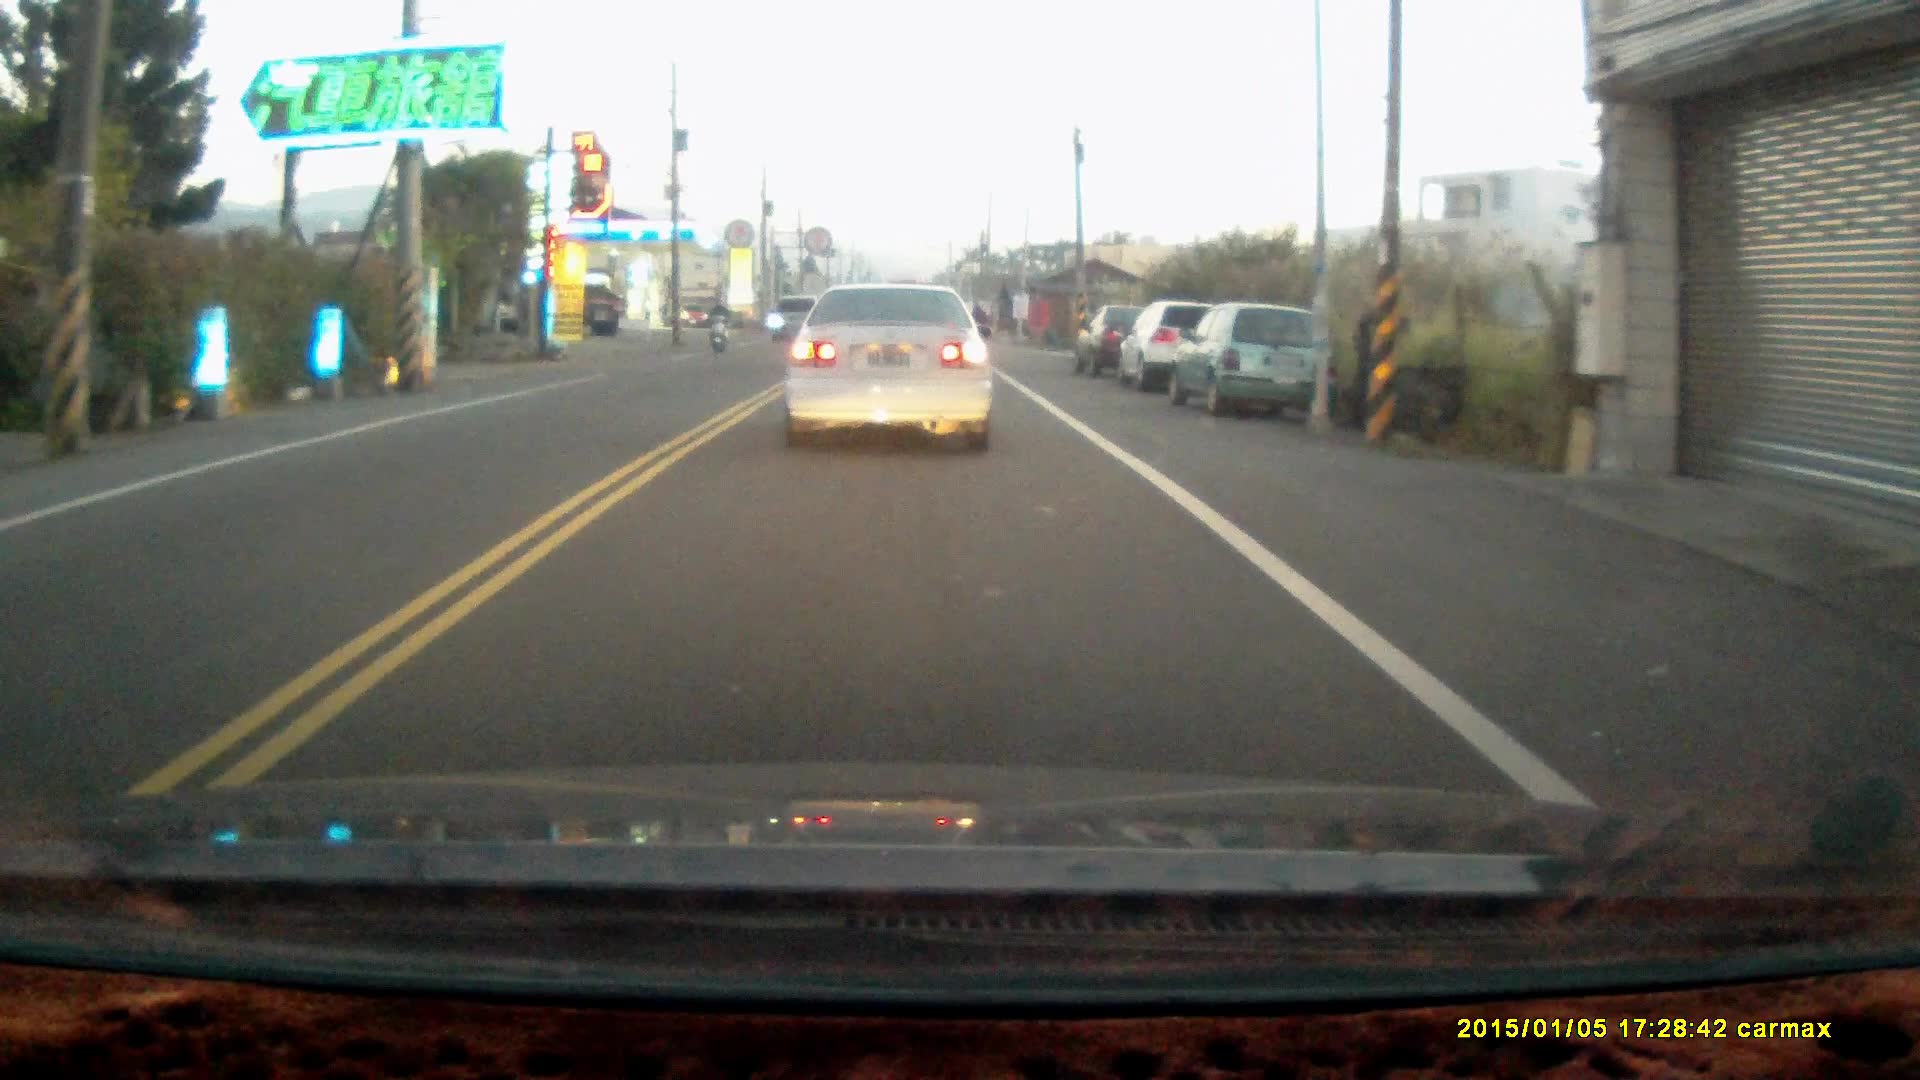rider: (706, 296, 730, 354)
vehicle: (782, 279, 998, 456), (1172, 303, 1337, 419), (1122, 302, 1252, 398), (1077, 304, 1178, 377)
